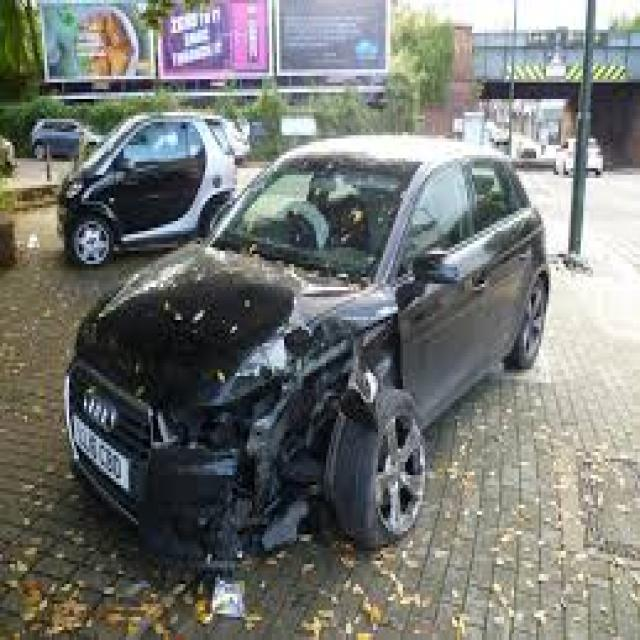moderate: (165, 281, 478, 630)
